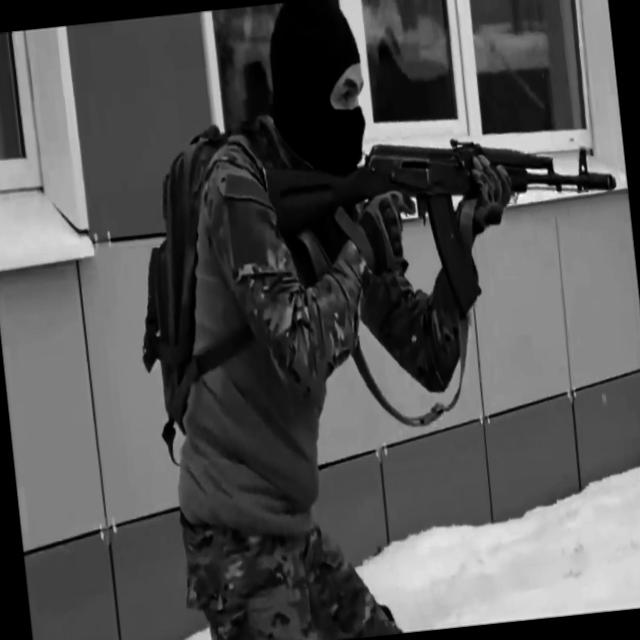gun: (259, 114, 630, 338)
person with a gun: (124, 0, 640, 640)
